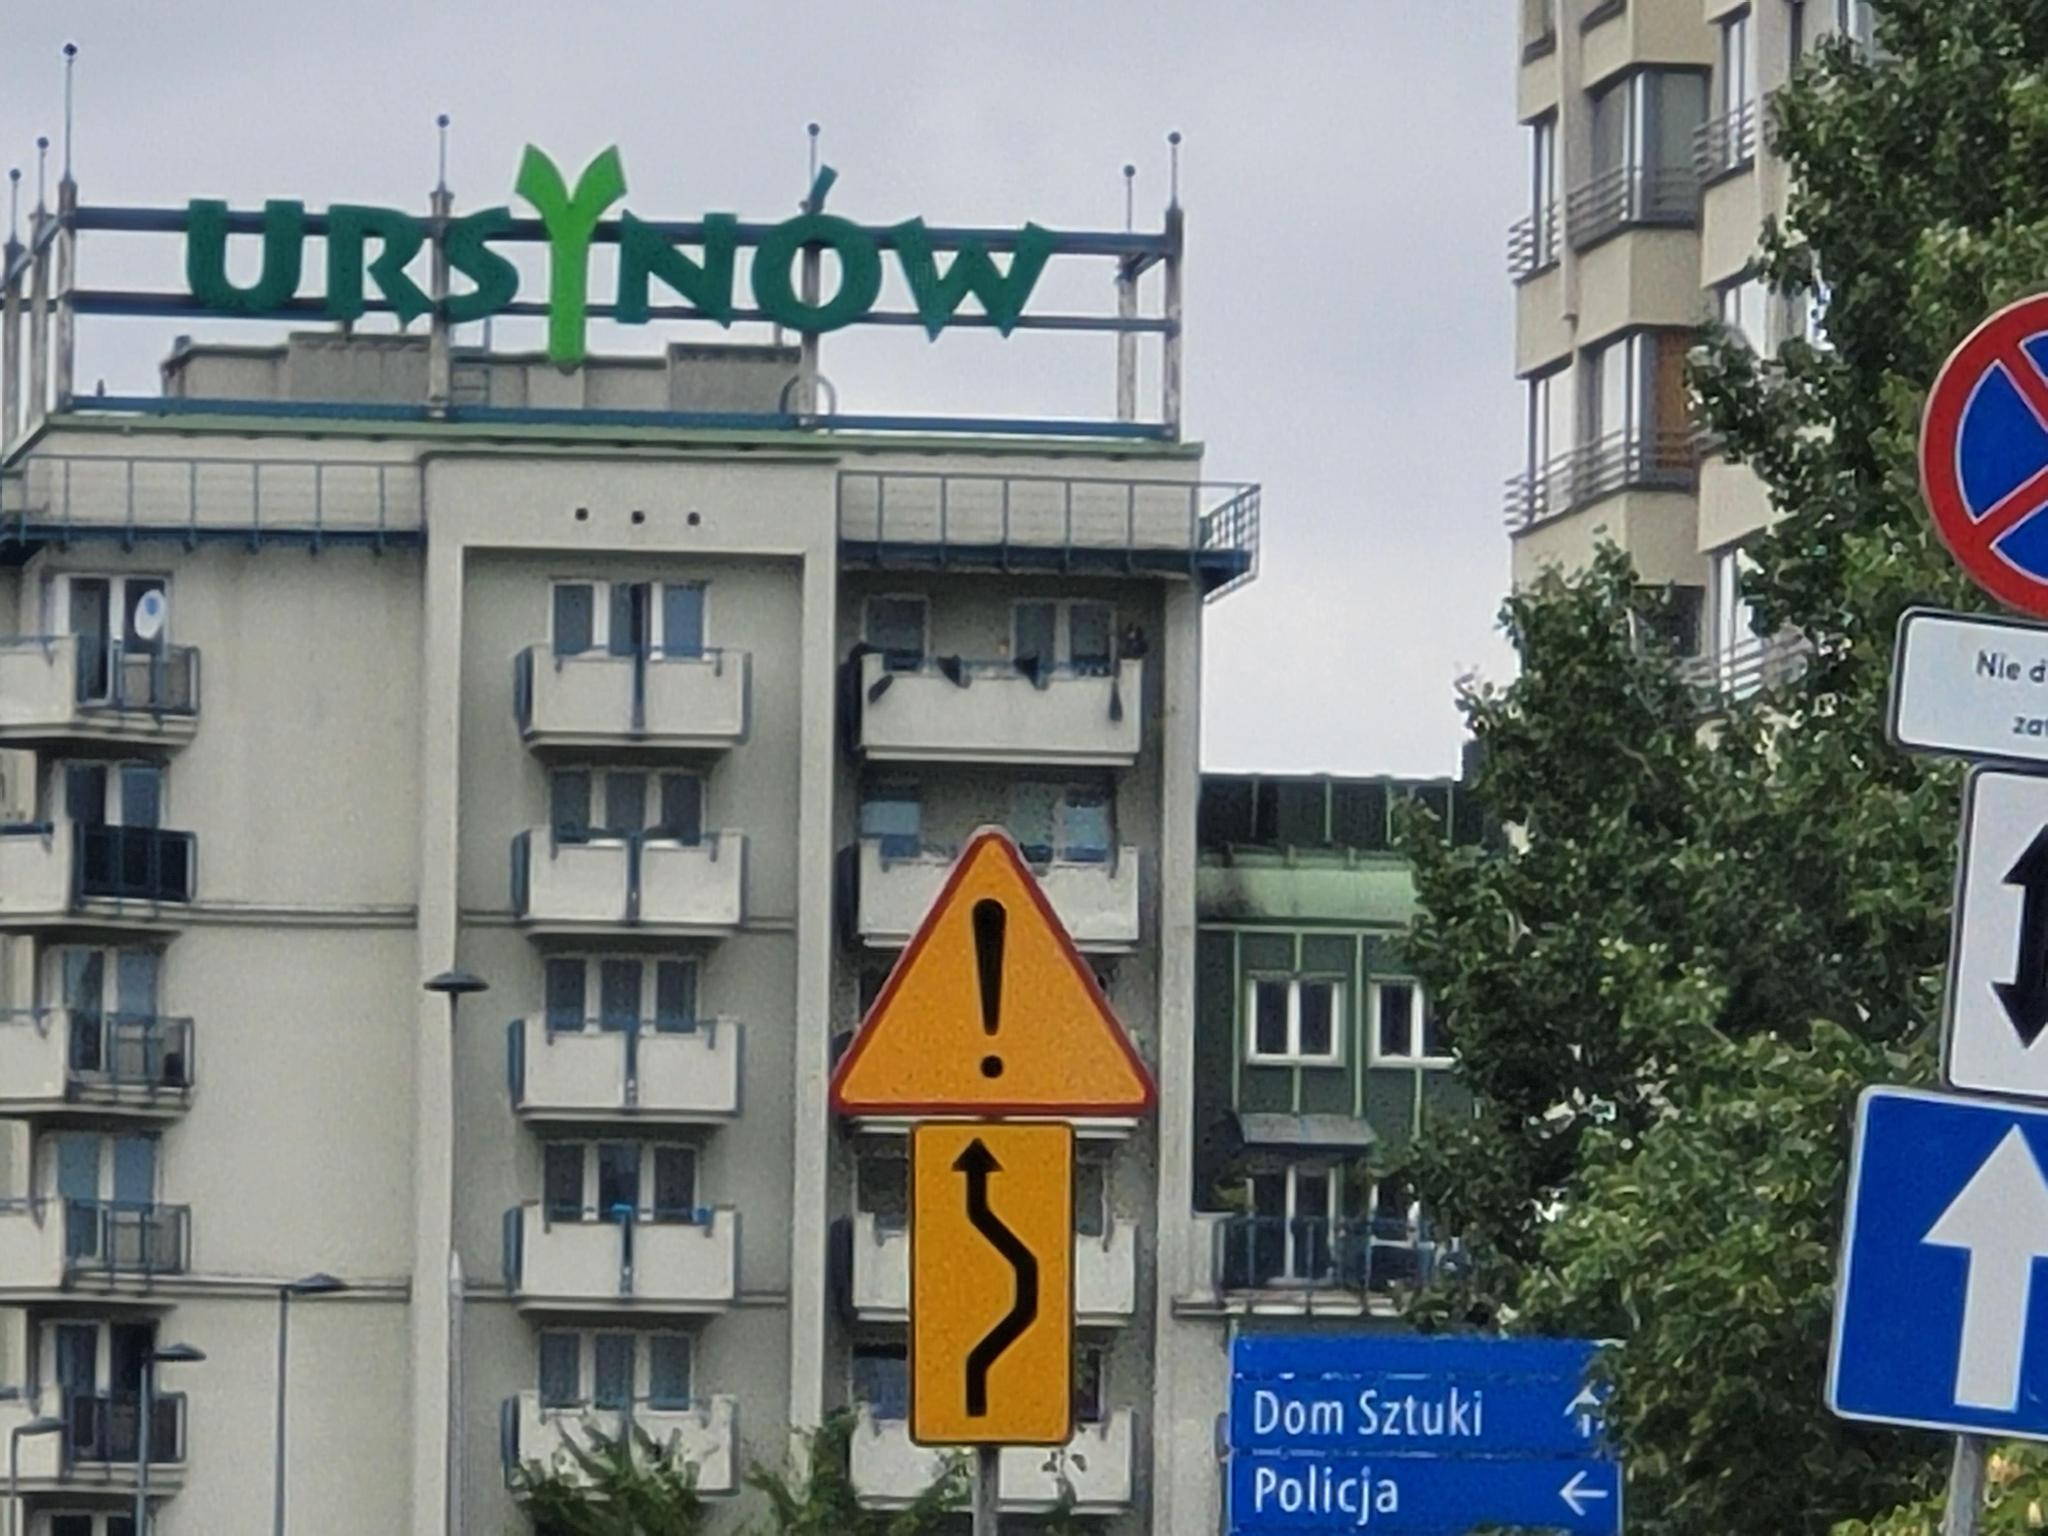information: (1829, 1089, 2048, 1442)
other: (913, 1125, 1072, 1442), (1946, 763, 2048, 1094)
prohibitory: (1919, 289, 2048, 624)
warning: (824, 823, 1156, 1113)
